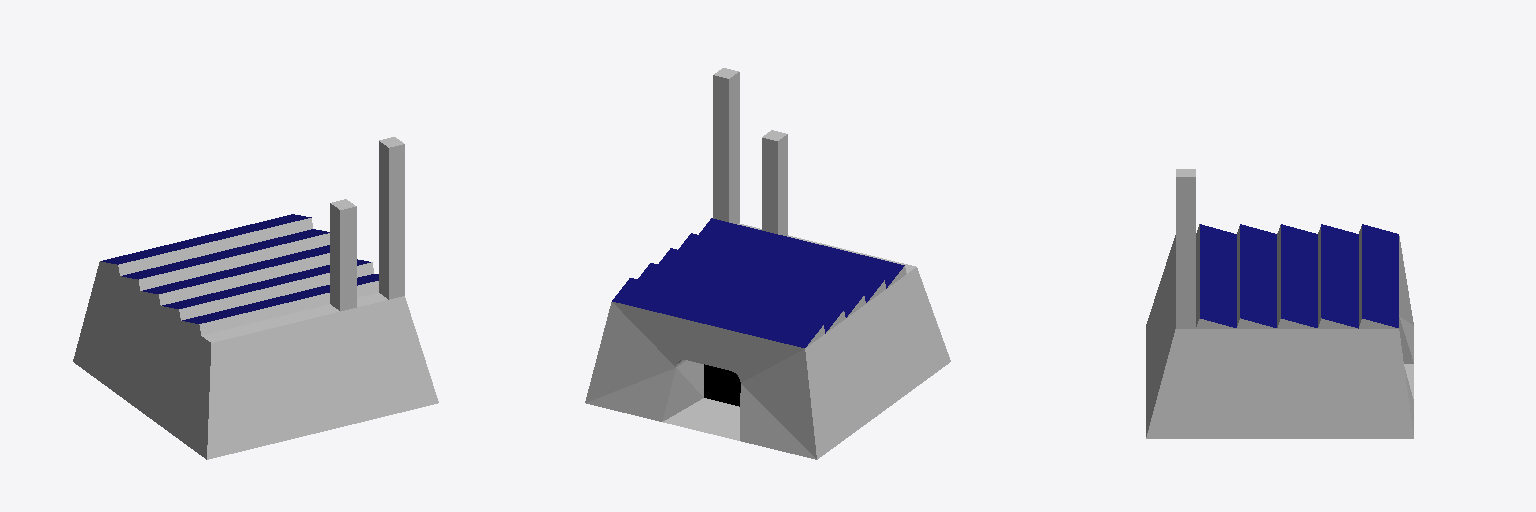
Rendered from factory.obj.
The picture shows the model from 3 angles: view 1: azimuth 30°, elevation 25°; view 2: azimuth 150°, elevation 25°; view 3: azimuth 270°, elevation 25°; orthographic projection.
Parts seen in each view (by area): view 1: Cube; view 2: Cube; view 3: Cube.
Boxes of the visible parts, box(x1,y1,x2,y2) form: Cube: box(73, 137, 438, 459); Cube: box(585, 68, 950, 459); Cube: box(1146, 169, 1413, 438).
Size of the model in its own units: 24 by 25 by 24.